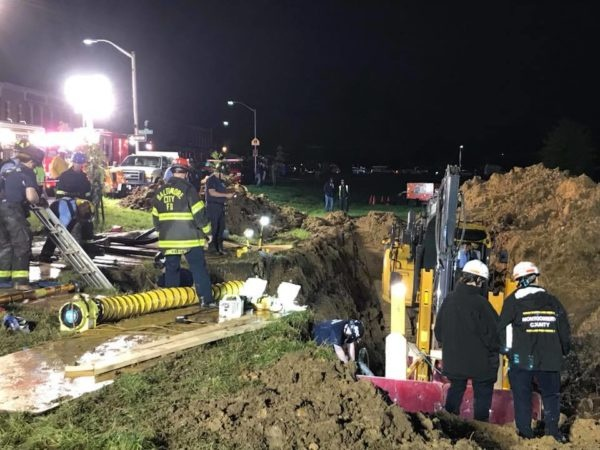blue: (68, 148, 88, 171)
red: (170, 156, 191, 178)
white: (511, 259, 540, 289), (460, 259, 489, 287)
